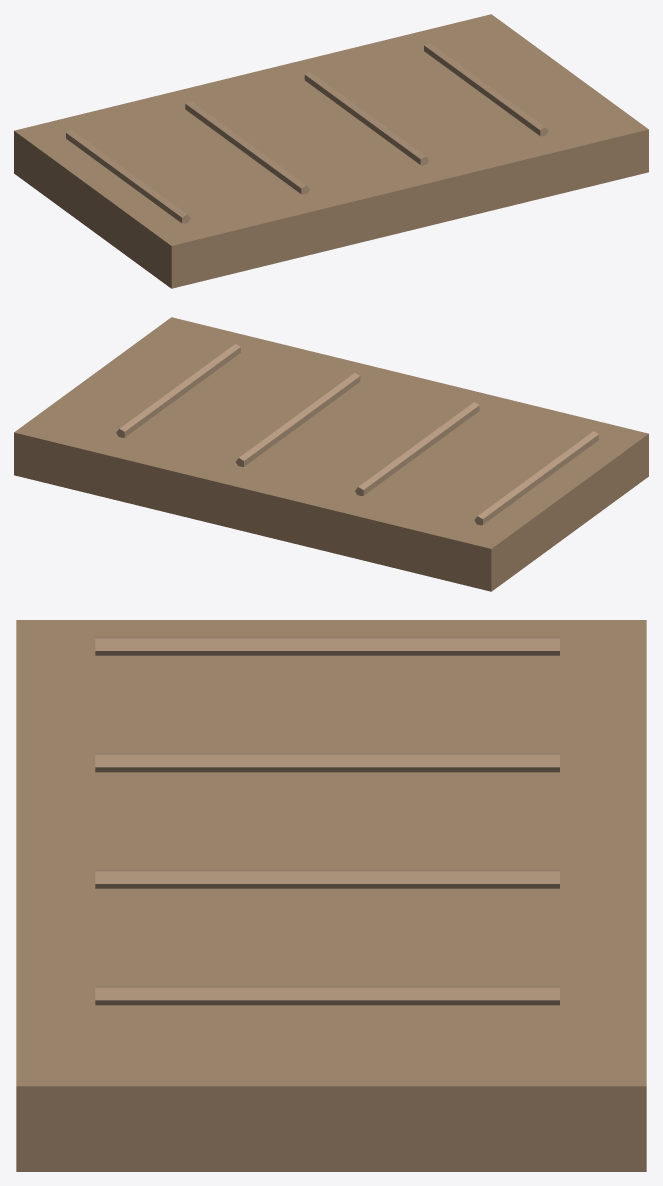
The model's file is bark_plate.glb.
The picture shows the model from 3 angles, top to bottom: view 1: azimuth 30°, elevation 25°; view 2: azimuth 150°, elevation 25°; view 3: azimuth 270°, elevation 25°; orthographic projection. The views are drawn at different scales.
Parts seen in each view (by area): view 1: BarkPlate, Groove_1, Groove_2, Groove_3, Groove_0; view 2: BarkPlate, Groove_2, Groove_3, Groove_0, Groove_1; view 3: BarkPlate, Groove_0, Groove_1, Groove_2, Groove_3.
Boxes of the visible parts, x1=… form: BarkPlate: x1=14, y1=14, x2=648, y2=288; Groove_1: x1=185, y1=100, x2=309, y2=194; Groove_2: x1=304, y1=71, x2=429, y2=165; Groove_3: x1=424, y1=42, x2=548, y2=136; Groove_0: x1=66, y1=129, x2=190, y2=223; BarkPlate: x1=14, y1=317, x2=648, y2=591; Groove_2: x1=235, y1=373, x2=360, y2=466; Groove_3: x1=116, y1=344, x2=240, y2=437; Groove_0: x1=474, y1=431, x2=598, y2=525; Groove_1: x1=355, y1=402, x2=479, y2=495; BarkPlate: x1=16, y1=620, x2=646, y2=1171; Groove_0: x1=95, y1=636, x2=559, y2=655; Groove_1: x1=95, y1=753, x2=559, y2=772; Groove_2: x1=95, y1=869, x2=559, y2=888; Groove_3: x1=95, y1=986, x2=559, y2=1005.
Bounding box in the file's own units: 1.4 × 0.1433 × 0.8.
